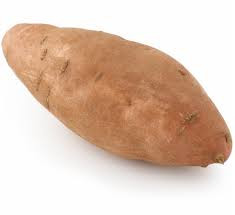potato: (1, 20, 235, 170)
